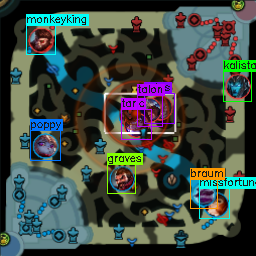braum: (191, 182, 215, 206)
graves: (110, 166, 133, 191)
kalista: (224, 73, 250, 98)
missfortune: (204, 193, 228, 216)
monkeyking: (27, 27, 52, 52)
poppy: (33, 133, 57, 157)
sylas: (148, 95, 172, 119)
talon: (136, 97, 162, 122)
taric: (123, 114, 149, 137)
